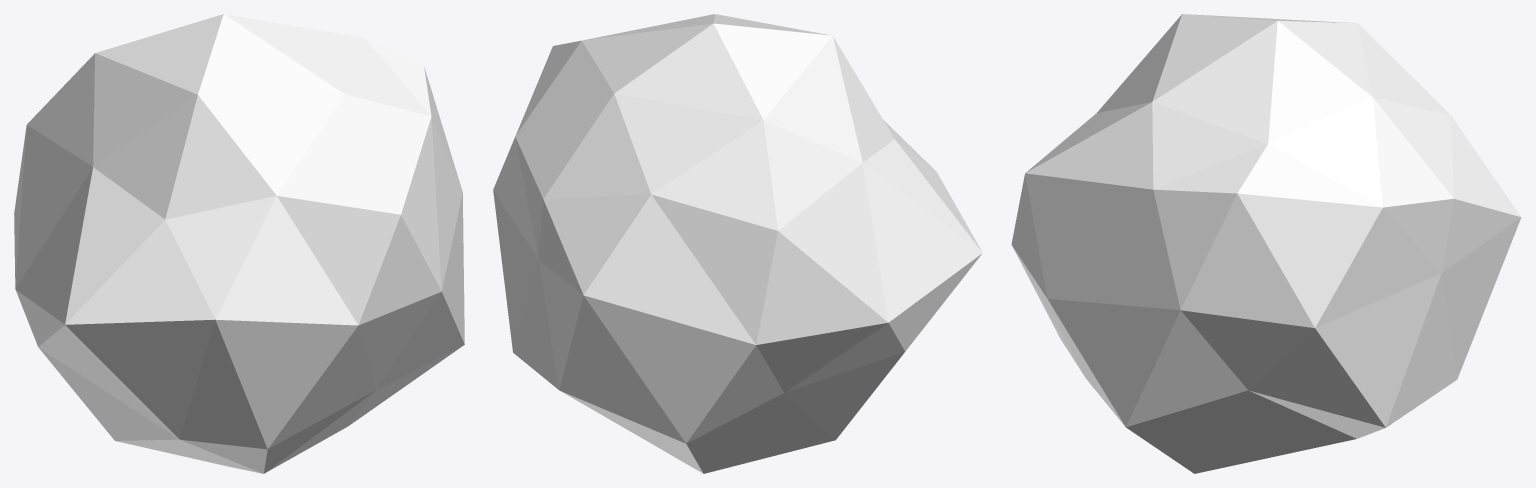
The model's file is PuffMesh.fbx.
The picture shows the model from 3 angles, left to right: view 1: azimuth 30°, elevation 25°; view 2: azimuth 150°, elevation 25°; view 3: azimuth 270°, elevation 25°; orthographic projection. The views are drawn at different scales.
Visible parts, largest first — view 1: Icosphere; view 2: Icosphere; view 3: Icosphere.
Part boxes in pixels (x1=…): Icosphere: x1=14, y1=14, x2=464, y2=473; Icosphere: x1=493, y1=14, x2=982, y2=473; Icosphere: x1=1011, y1=14, x2=1521, y2=473.
Bounding box in the file's own units: 197 × 197 × 204.
1 material, 1 textured.
